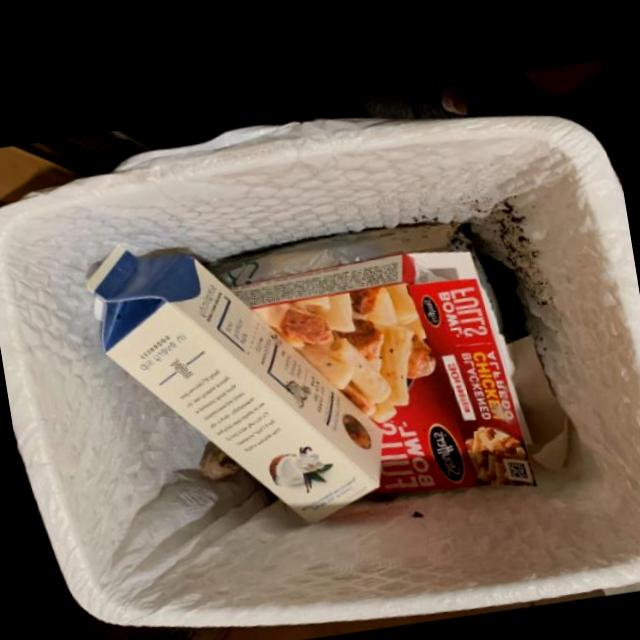carton: (235, 242, 538, 488)
giay: (508, 325, 571, 463)
vo_hop_sua: (91, 241, 386, 520)
